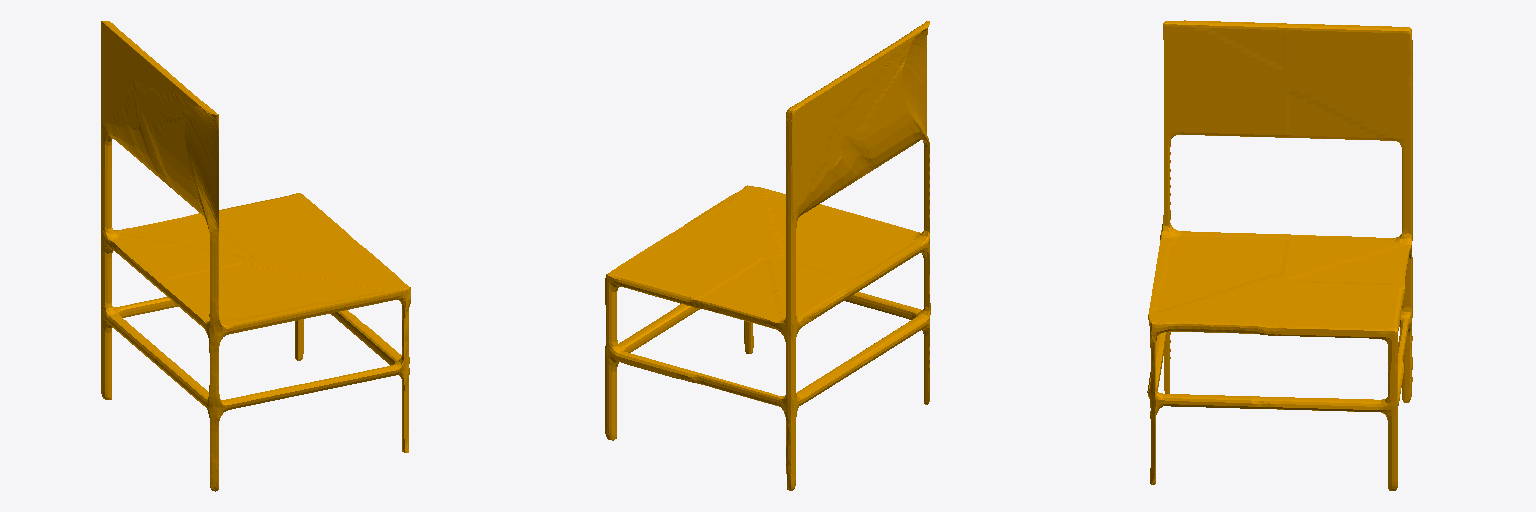
The robot description file, URDF, robot "03001627_47a45ce9fb219083411e8b42940aba04_object1":
<robot name="03001627_47a45ce9fb219083411e8b42940aba04_object1">
	<link name="_name">
		<visual>
			<origin xyz="-3.0847091894871306 -1.746478086537386 0.9111423693485077" rpy="0.0 0.0 0.0" />
			<geometry>
				<mesh filename="03001627_47a45ce9fb219083411e8b42940aba04_object1.obj" />
			</geometry>
		</visual>
		<collision>
			<origin rpy="0.0 0.0 0.0" xyz="-3.0847091894871306 -1.746478086537386 0.9111423693485077" />
			<geometry>
				<mesh filename="03001627_47a45ce9fb219083411e8b42940aba04_object1_vhacd.obj" />
			</geometry>
		</collision>
		<inertial>
			<origin rpy="0 0 0" xyz="0 0 0" />
			<mass value="1.0" />
			<inertia ixx="0.001" ixy="0.0" ixz="0.0" iyy="0.001" iyz="0.0" izz="0.001" />
		</inertial>
	</link>
</robot>

--- Facts derived from the render (not from the file) ---
Views: 3 orthographic renders of the robot side by side, from view 1: azimuth 30°, elevation 25°; view 2: azimuth 150°, elevation 25°; view 3: azimuth 270°, elevation 25°.
Model 03001627_47a45ce9fb219083411e8b42940aba04_object1 with 1 links and 0 joints (none), rooted at _name, posed all joints at 0.
Visible links, largest first — view 1: _name; view 2: _name; view 3: _name.
Boxes of the visible links, x1,y1,x2,y2 form: _name: (101,21,410,491); _name: (605,21,930,490); _name: (1147,20,1412,490).
Bounding box of the posed robot: 0.4419 × 0.4956 × 0.7706 m (x, y, z).
Meshes: 1 distinct files referenced, 1 mesh visuals loaded (1 OBJ).
